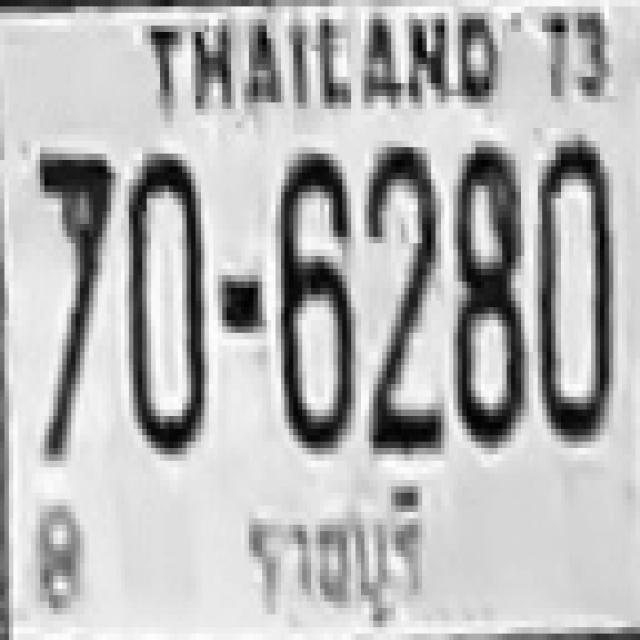0: (124, 147, 204, 448), (537, 137, 612, 438)
2: (362, 144, 443, 449)
6: (277, 149, 353, 444)
7: (36, 148, 111, 454)
8: (454, 142, 526, 444)
Ratchaburi: (230, 465, 434, 638)
